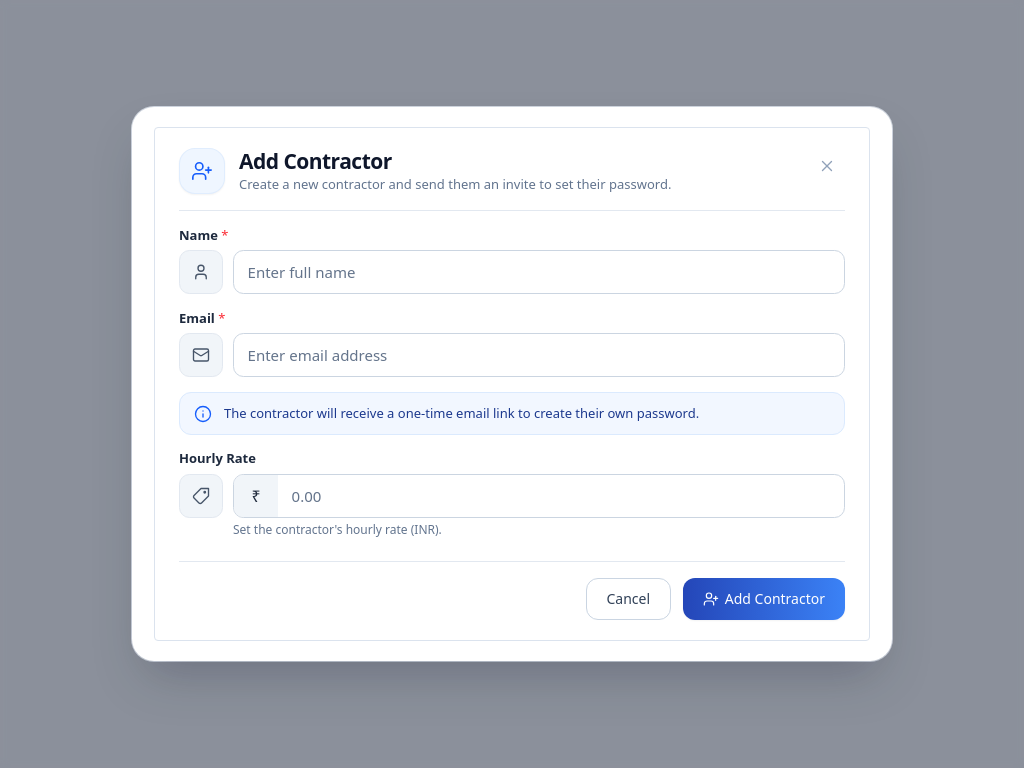
Test: AddContractorModal › displays loading state during submission
Step 1. Type "Sam Contractor" into the field with placeholder "Enter full name" → (539, 272), box [233, 250, 845, 294]
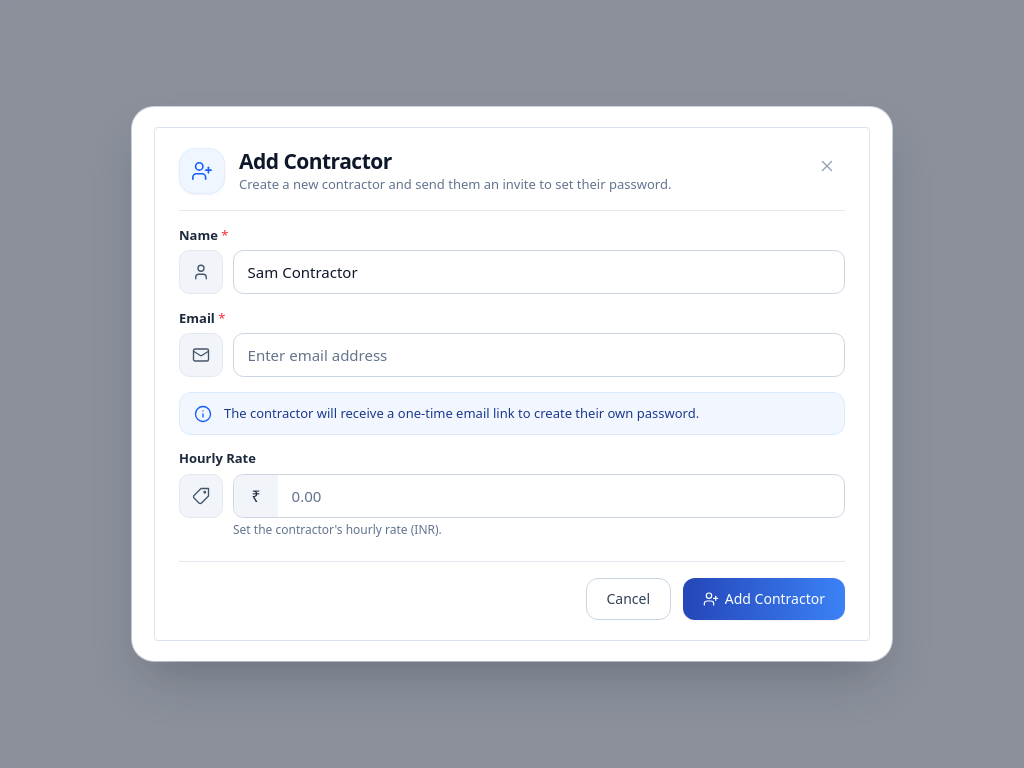
Step 2. Type "sam@contractor.dev" into the field with placeholder "Enter email address" → (539, 355), box [233, 333, 845, 377]
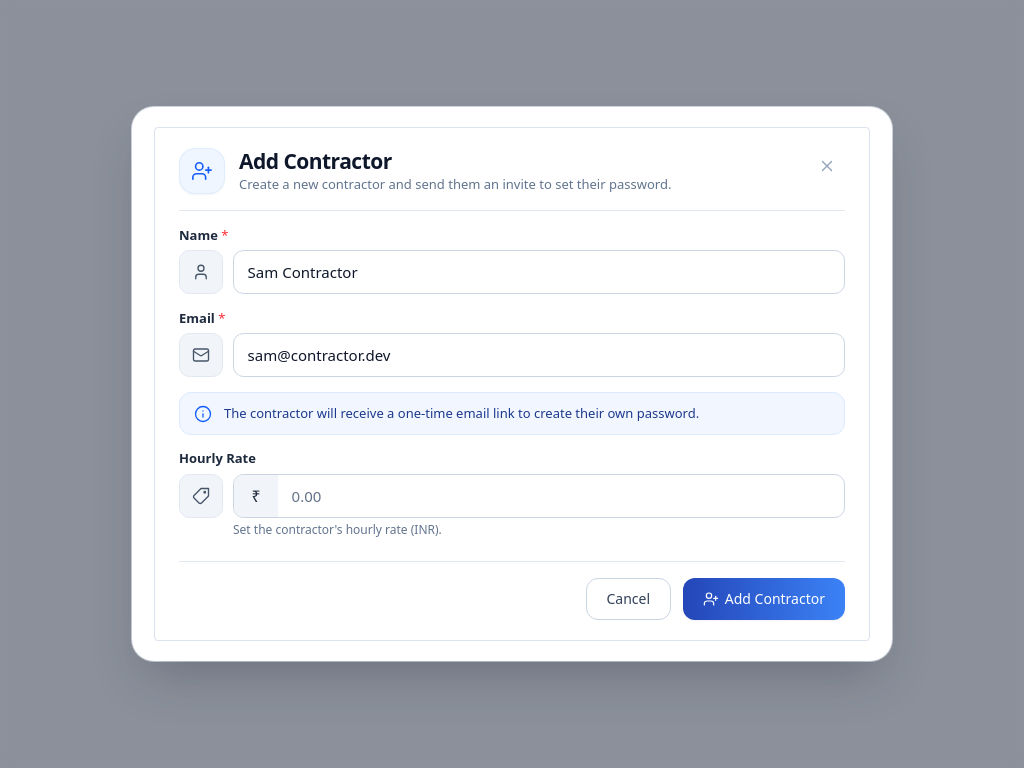
Step 3. Type "100" into the number field with placeholder "0.00" → (561, 496), box [278, 475, 844, 517]
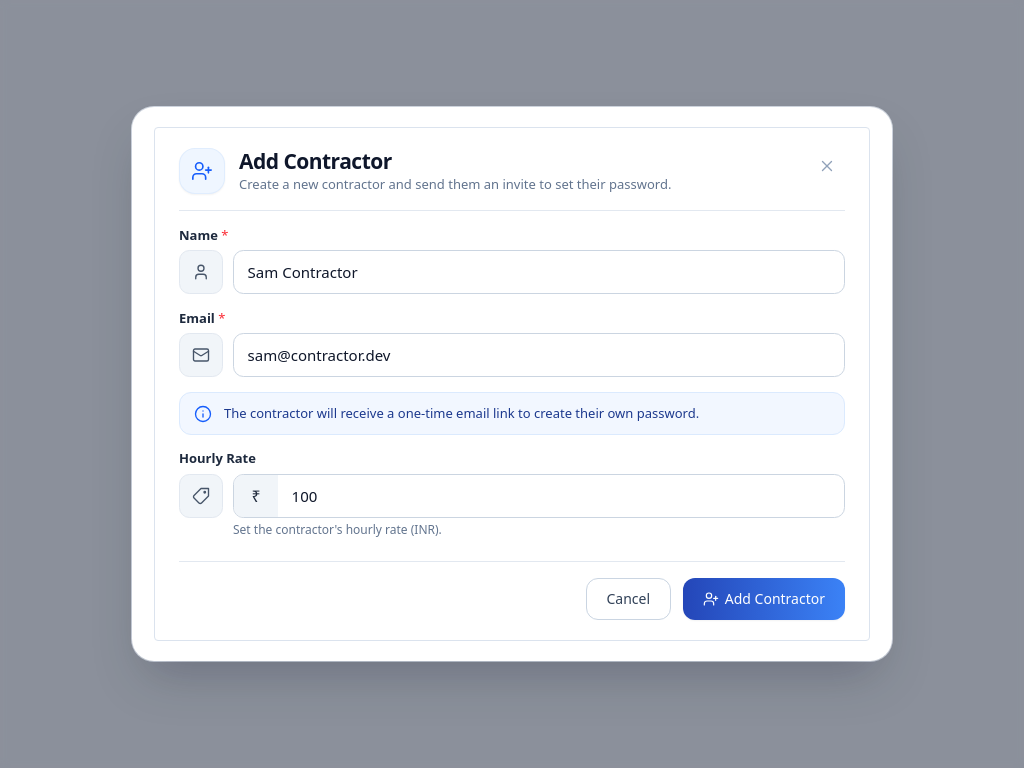
Step 4. Click the button "Add Contractor" → (764, 599), box [683, 578, 845, 620]
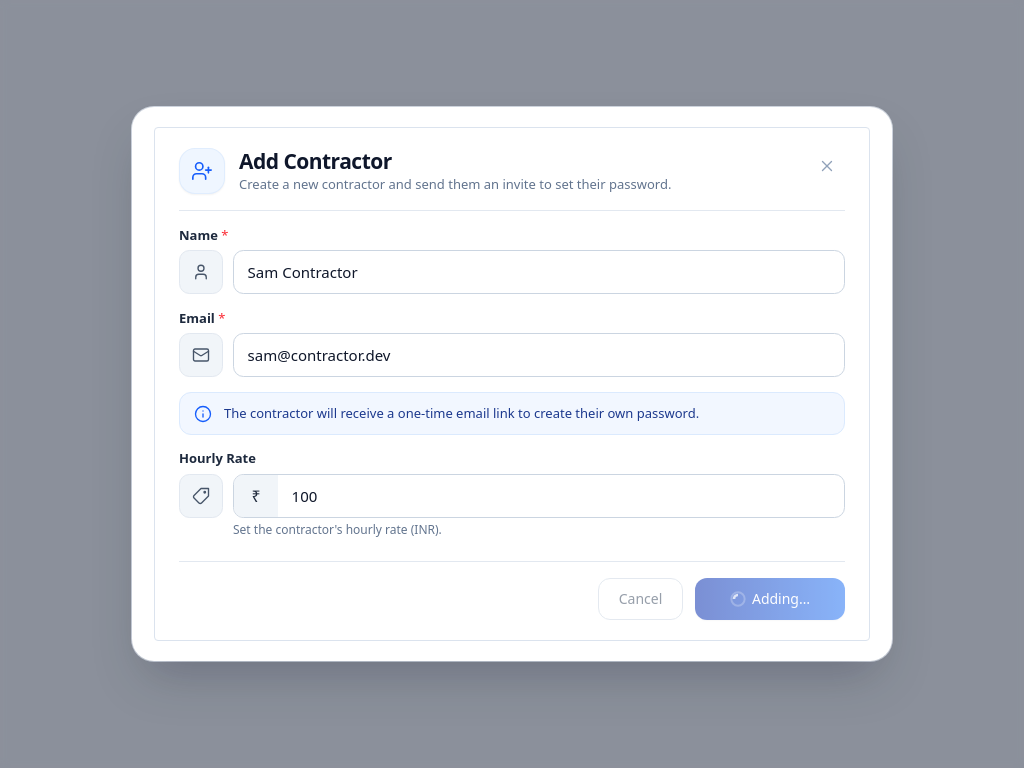
Expected: the text "Adding…" is shown, [752, 589, 810, 609]
Expected: the button "Adding…" is disabled, [695, 578, 845, 620]
Expected: the button "Cancel" is disabled, [598, 578, 683, 620]
